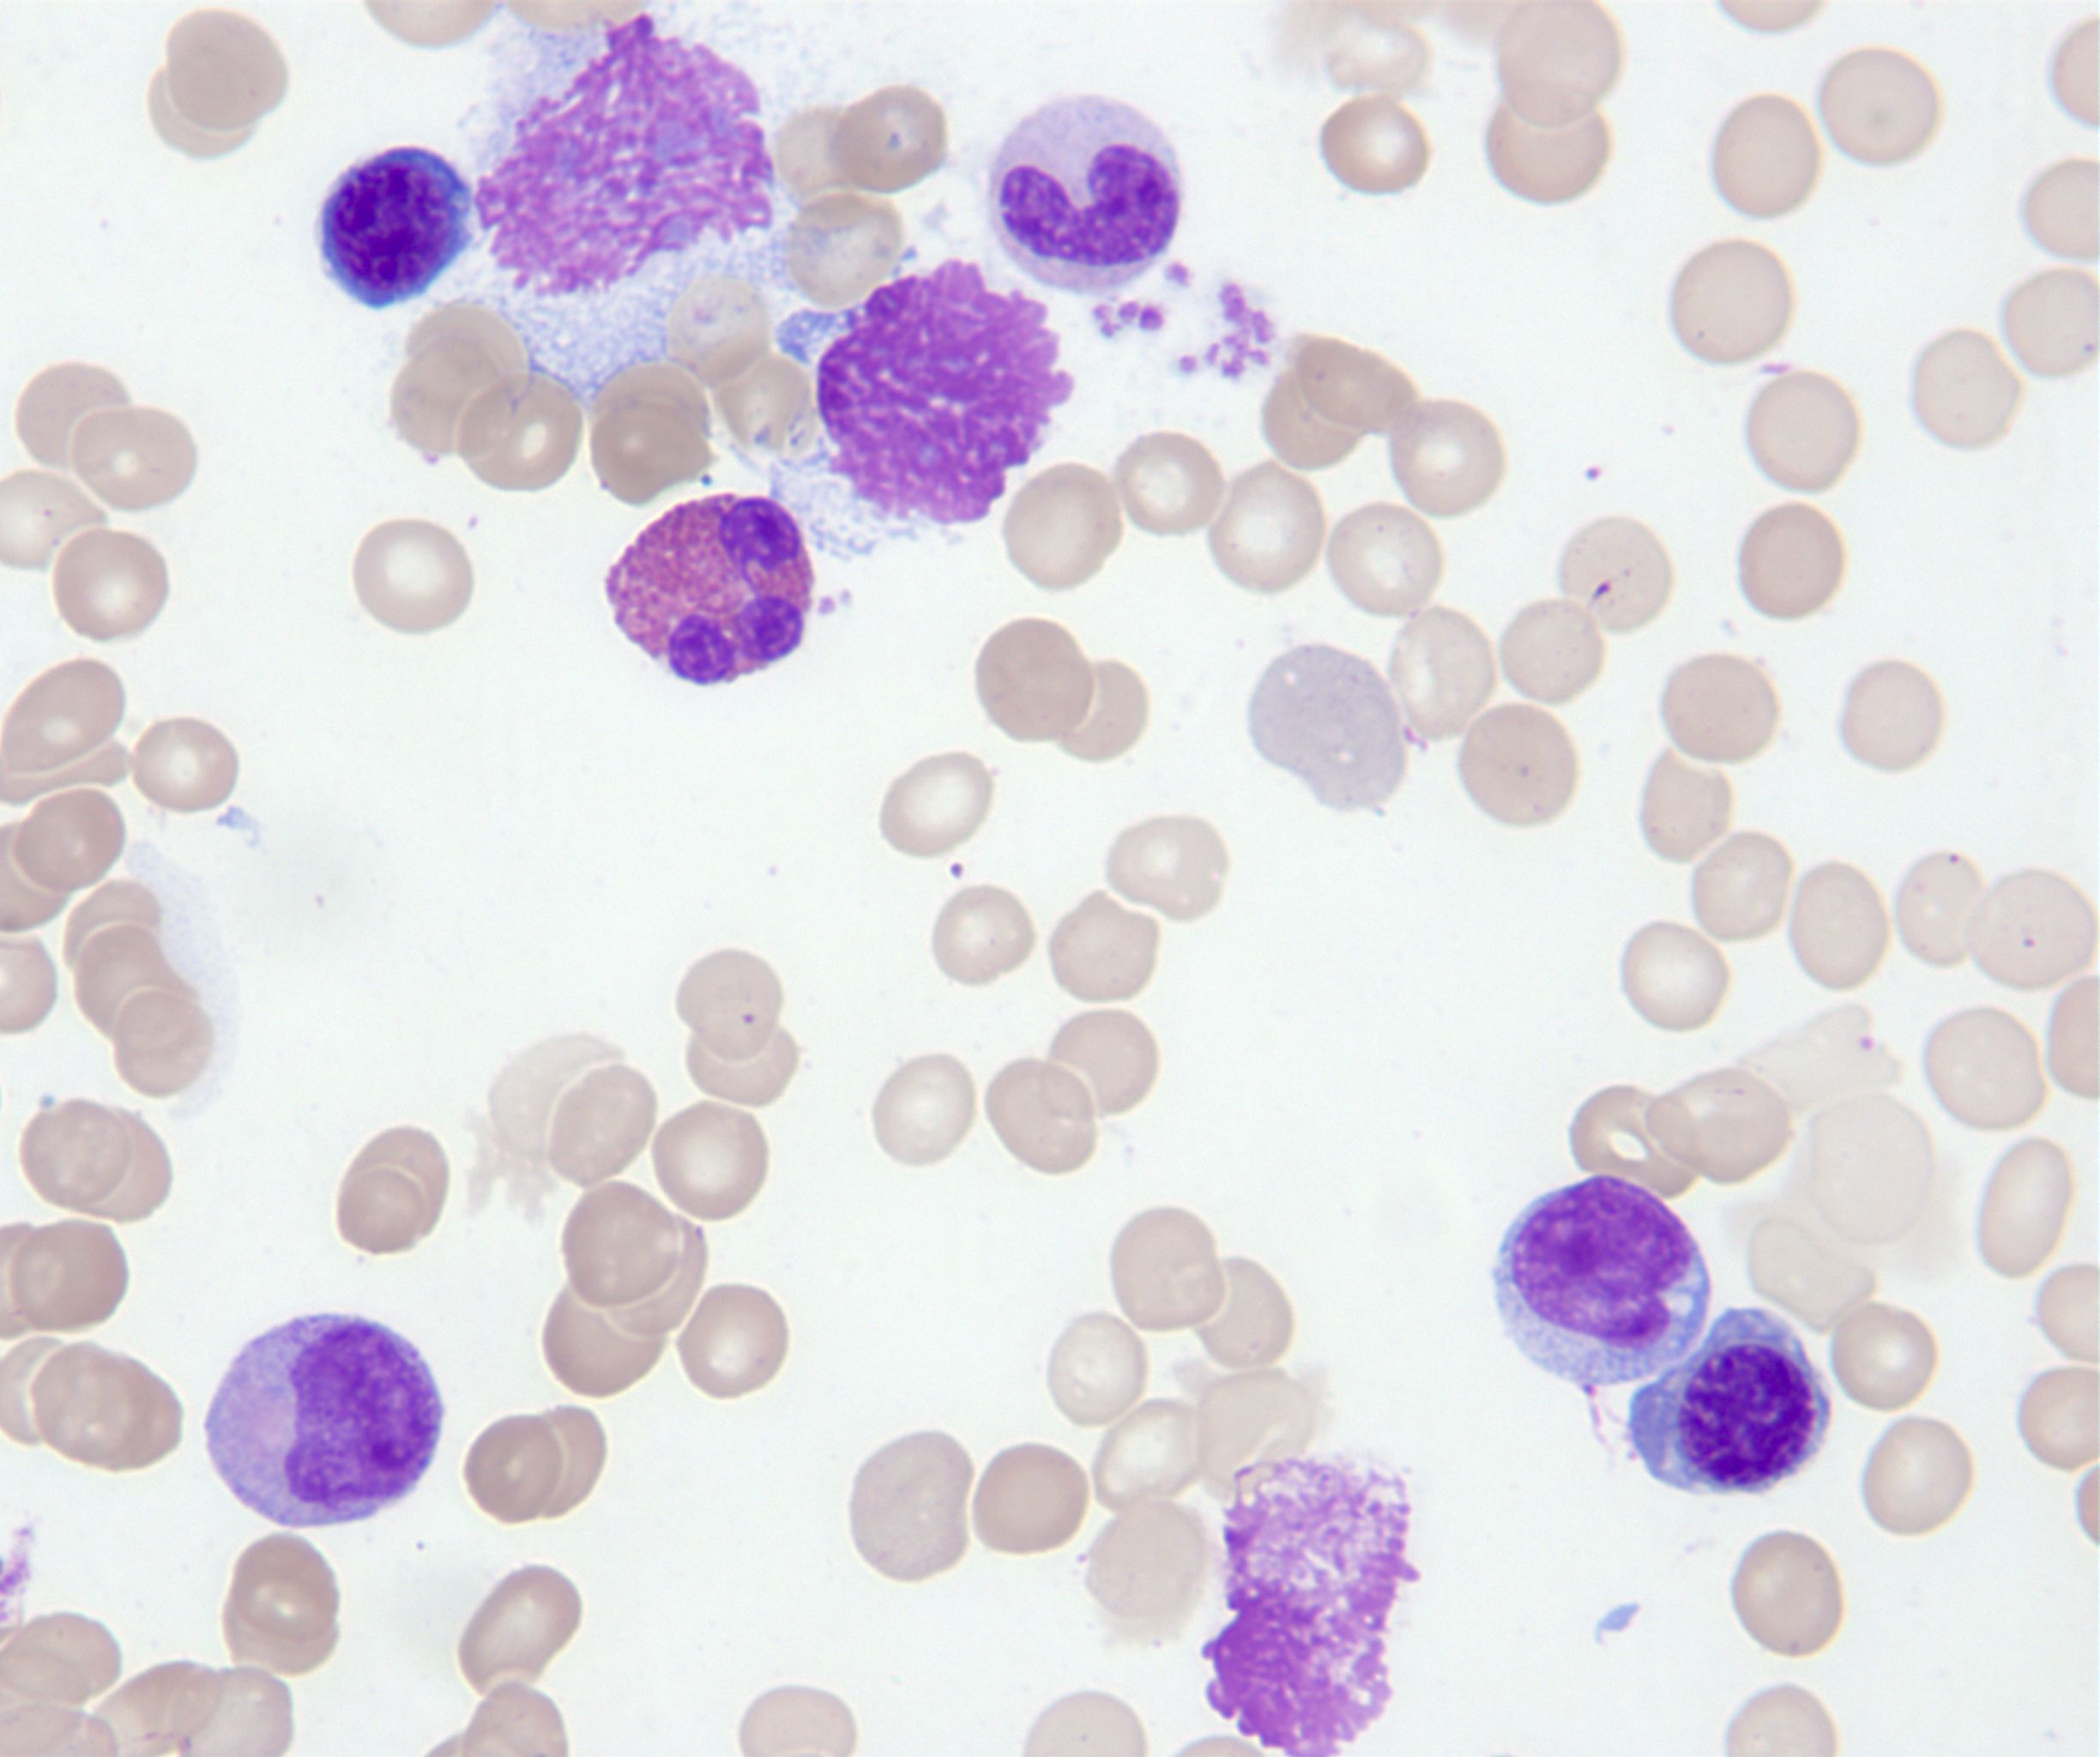23: (1629, 1310, 1830, 1495), (319, 148, 471, 309)
3: (204, 1316, 443, 1528)
4: (991, 92, 1181, 297)
42: (1495, 1174, 1708, 1387)
E4: (605, 492, 813, 684)
x: (469, 12, 839, 401), (774, 258, 1074, 560), (1203, 1457, 1418, 1757)
